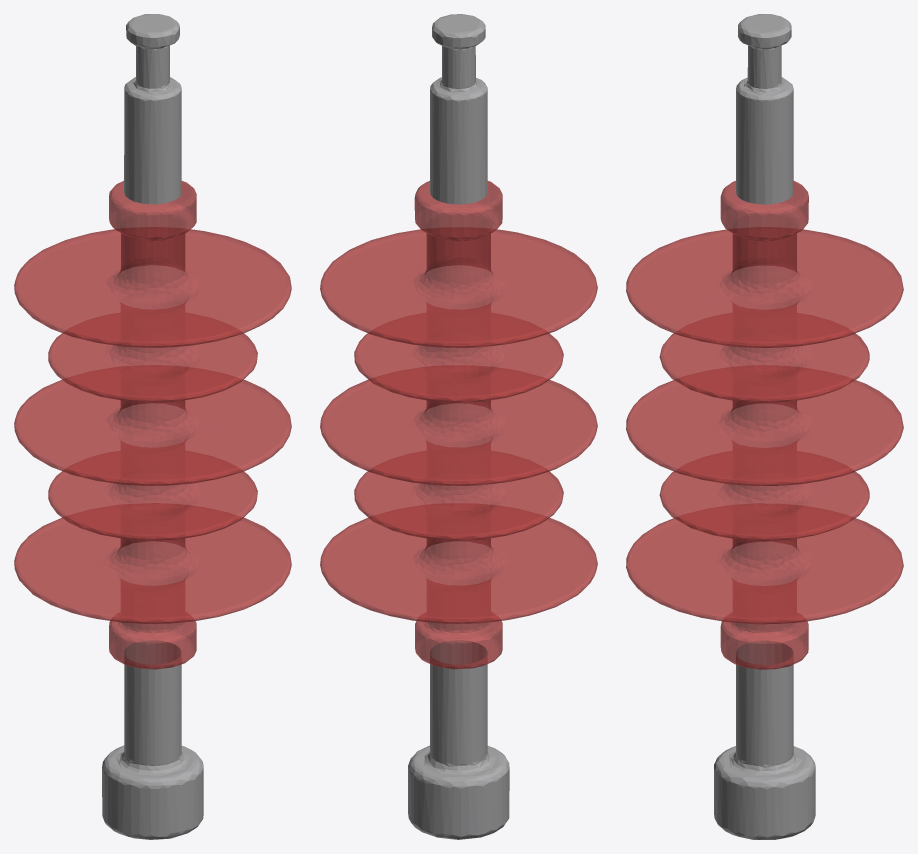
File: 复合拉棒绝缘子-1.obj
3 renders of one model, left to right at view 1: azimuth 30°, elevation 25°; view 2: azimuth 150°, elevation 25°; view 3: azimuth 270°, elevation 25°, orthographic.
Visible parts, largest first — view 1: 复合拉棒绝缘子-1; view 2: 复合拉棒绝缘子-1; view 3: 复合拉棒绝缘子-1.
Part boxes in pixels (<box>): 复合拉棒绝缘子-1: <box>14,14,291,839</box>; 复合拉棒绝缘子-1: <box>320,14,597,839</box>; 复合拉棒绝缘子-1: <box>626,14,903,839</box>.
Bounding box in the file's own units: 16.4 × 52 × 16.41.
